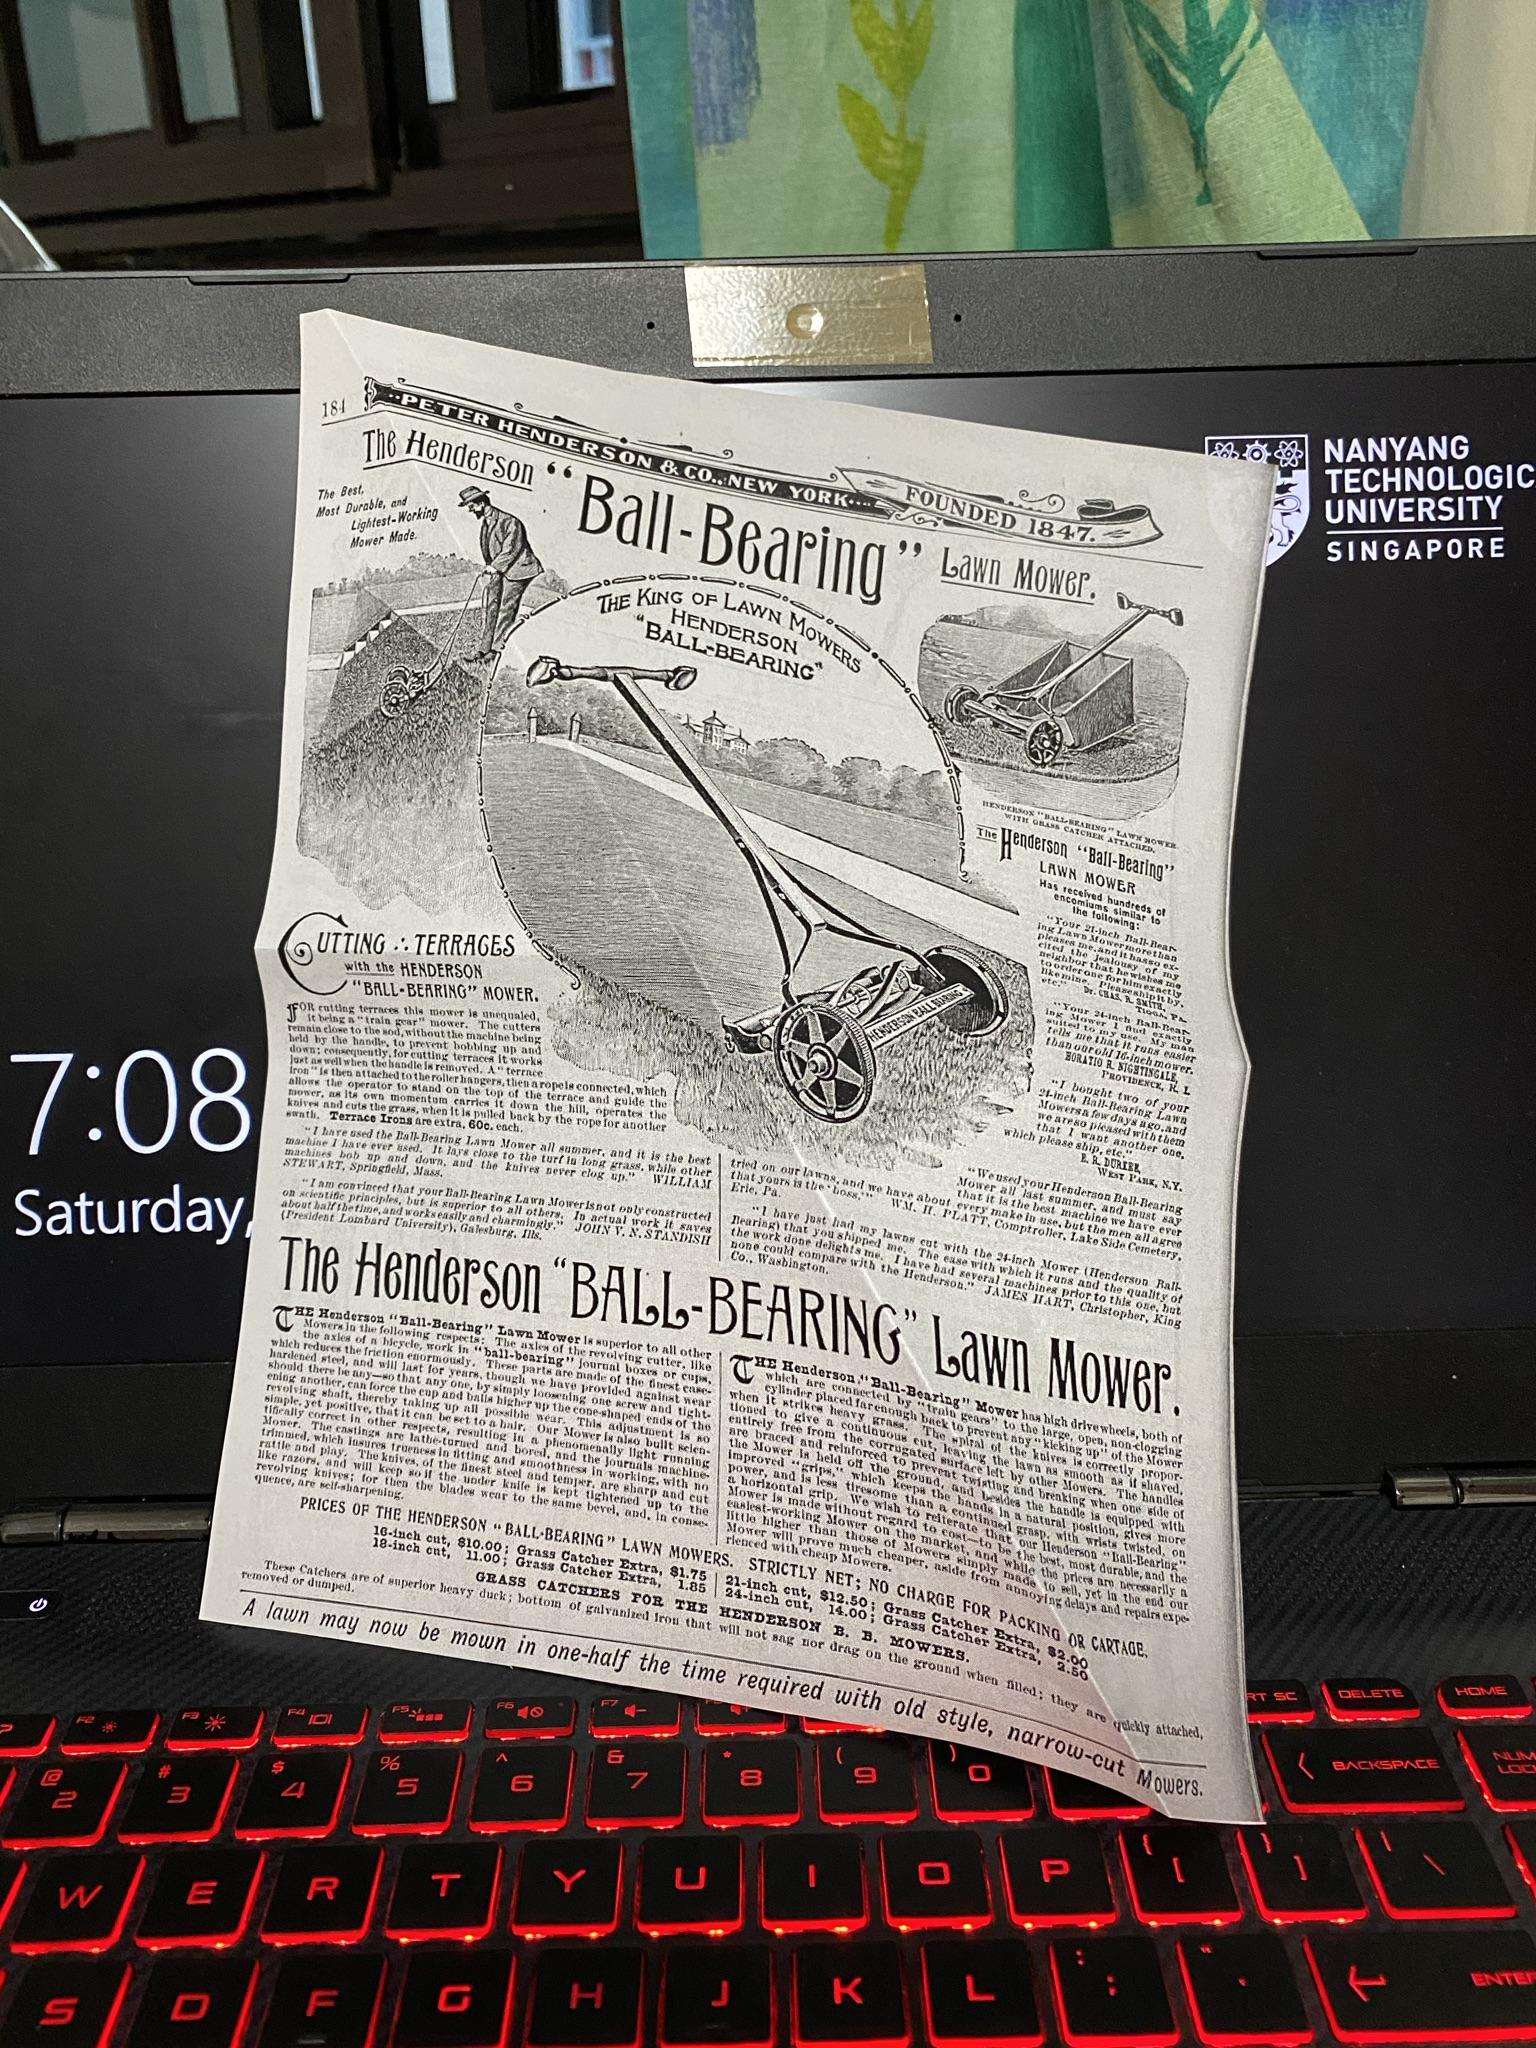paper: (98, 171, 1396, 1816)
